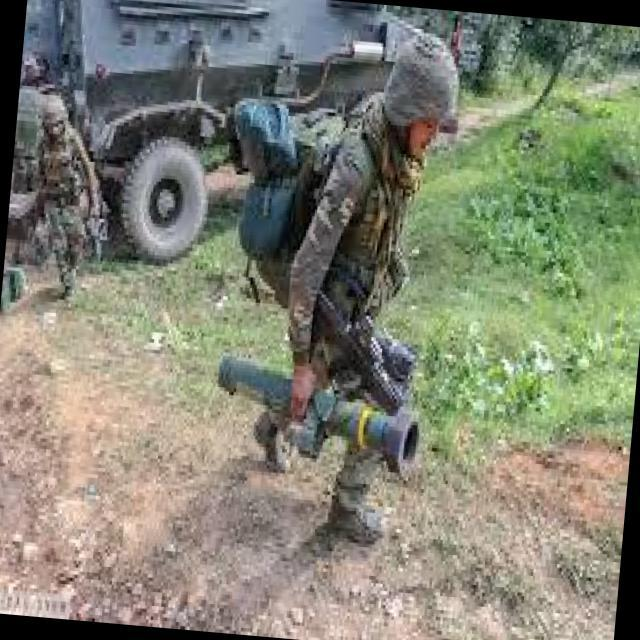rocket: (206, 346, 427, 480)
